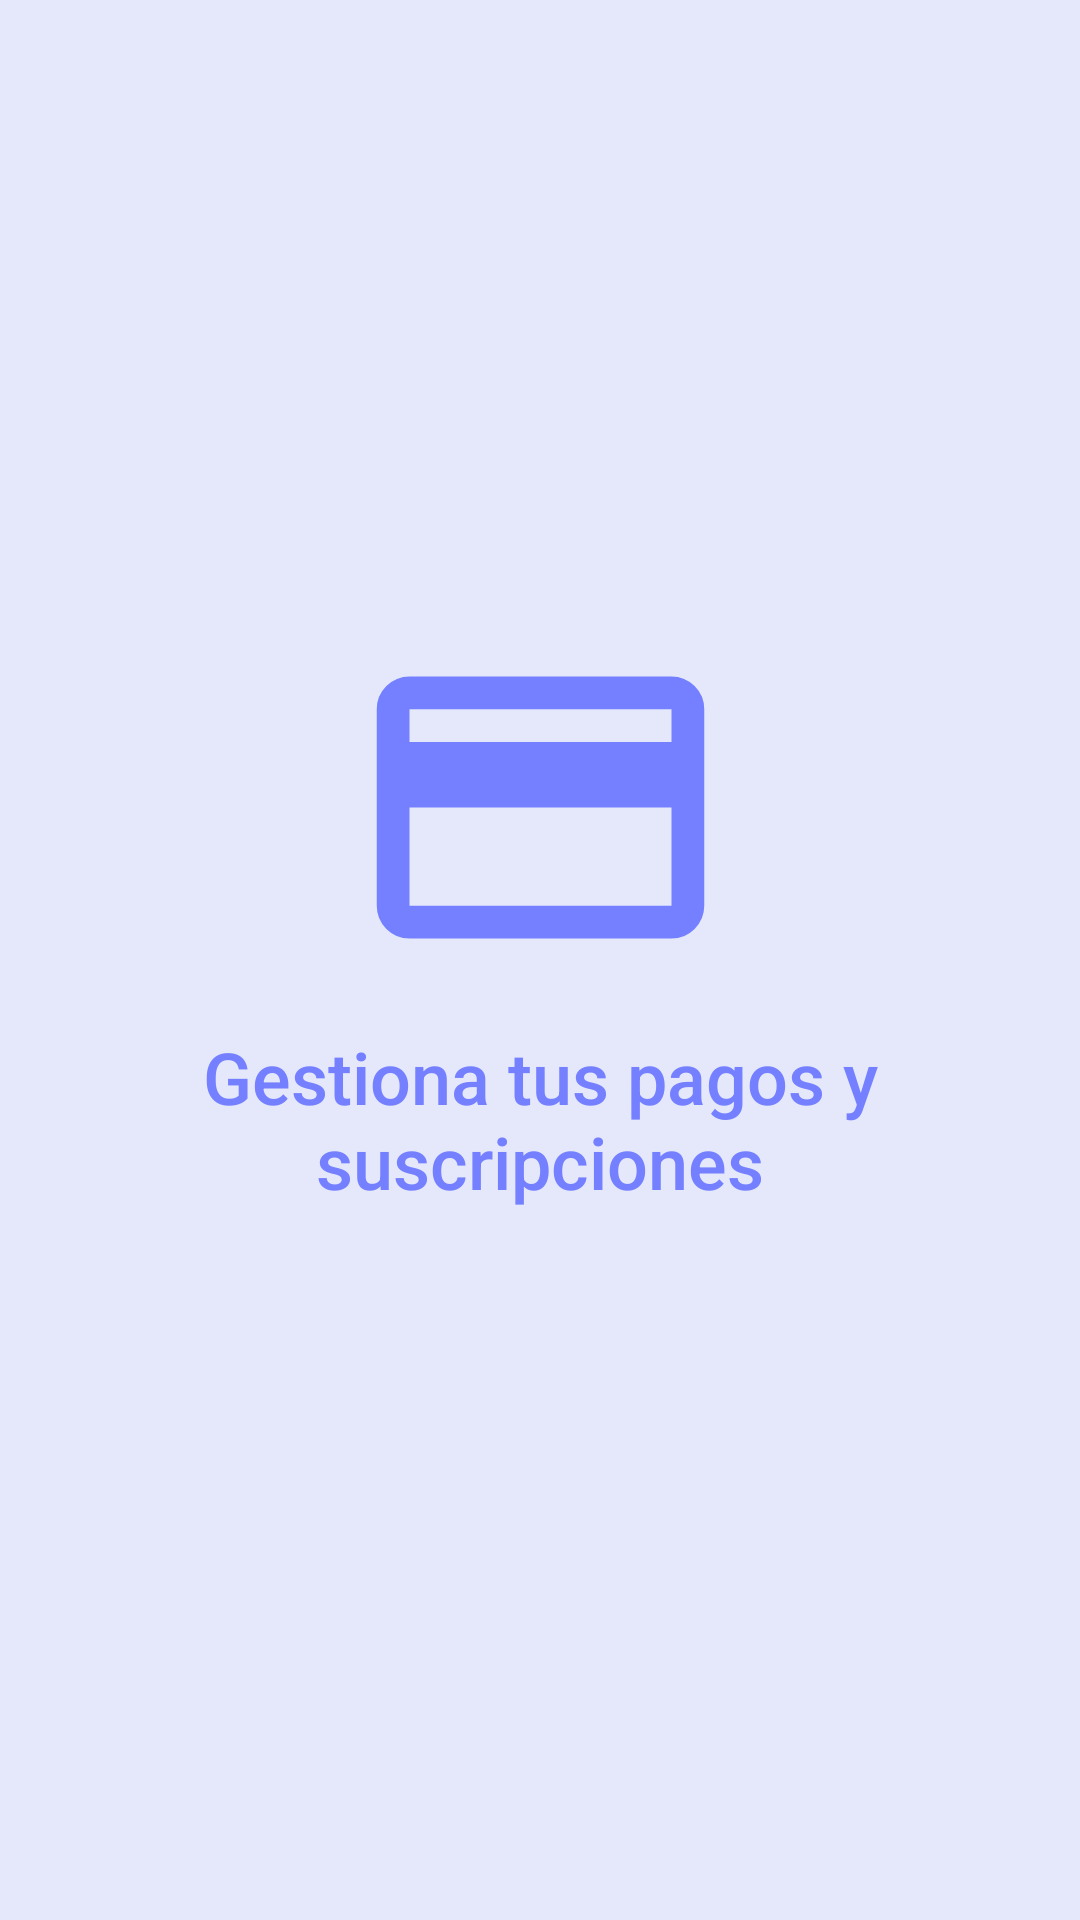

Icon bounding boxes for this 1080x1920 phone screenshot, format (x1, y1, x2, y2):
card: (376, 676, 705, 939)
